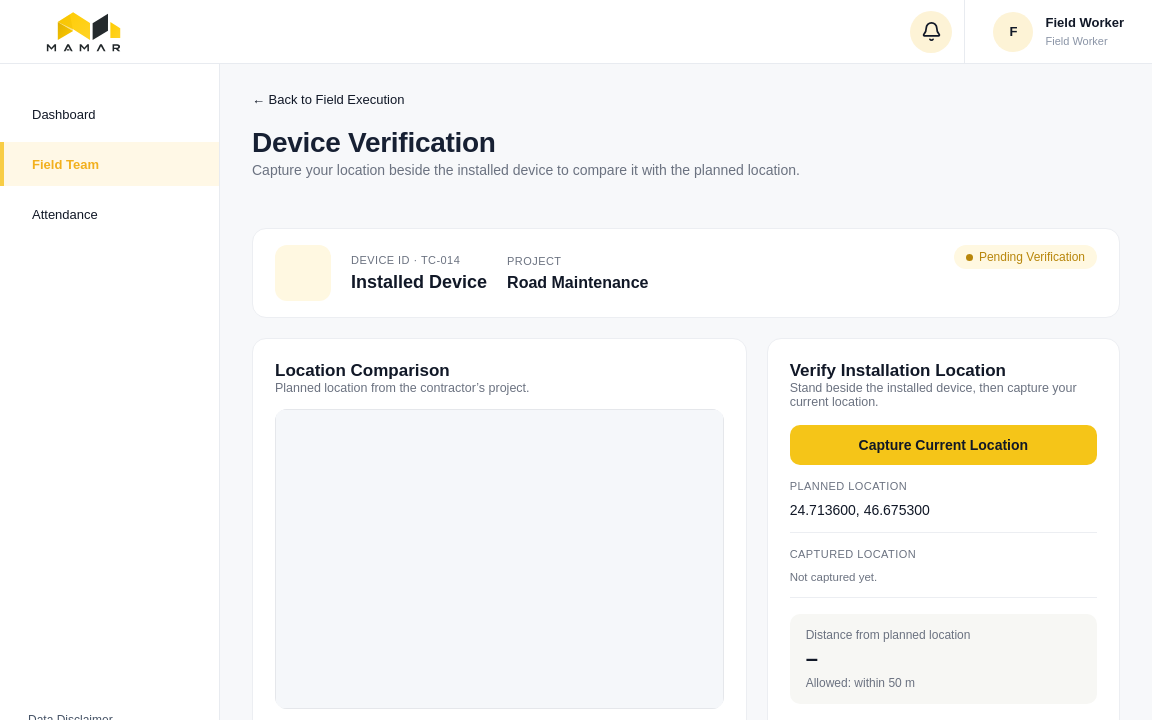
Test case: Field Worker DeviceVerification › shows save errors and allows retrying
The width and height of the screenshot is (1152, 720).
What coordinates should you click on to do the following:
click the button "Capture Current Location"
I would click on:
 (943, 445)
Its box is left=790, top=425, right=1097, bottom=465.
(page scrolled)
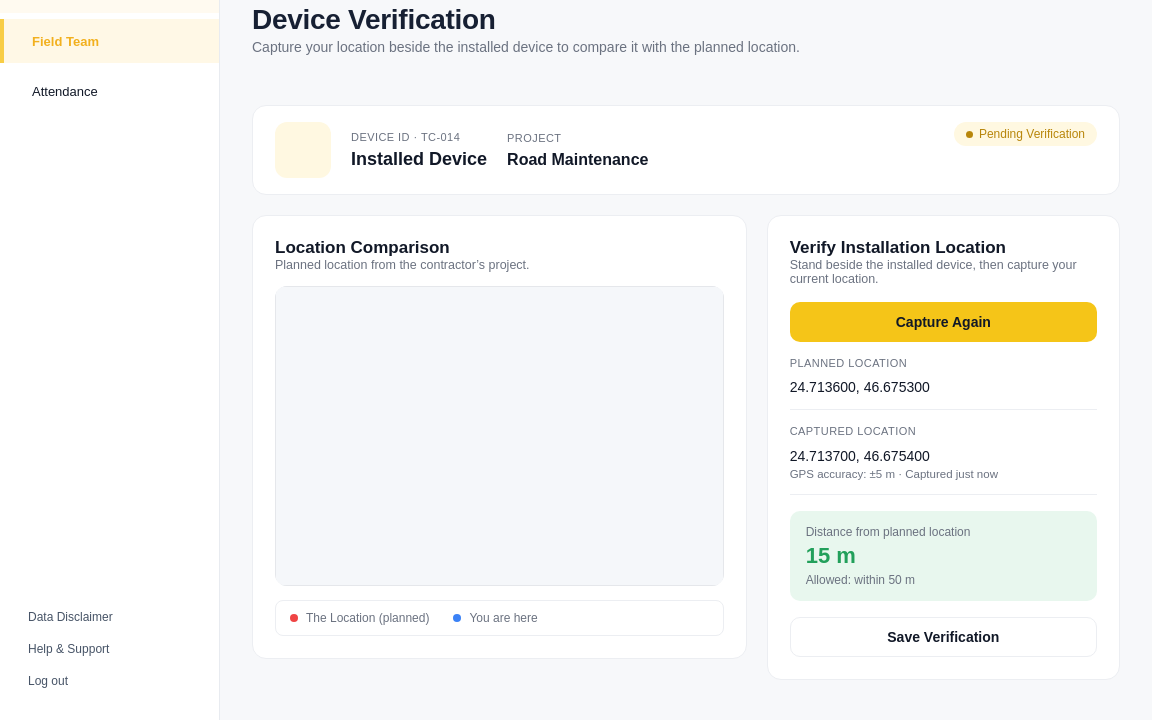
What coordinates should you click on to do the following:
click the button "Save Verification"
I would click on:
 (943, 637)
Its box is left=790, top=617, right=1097, bottom=657.
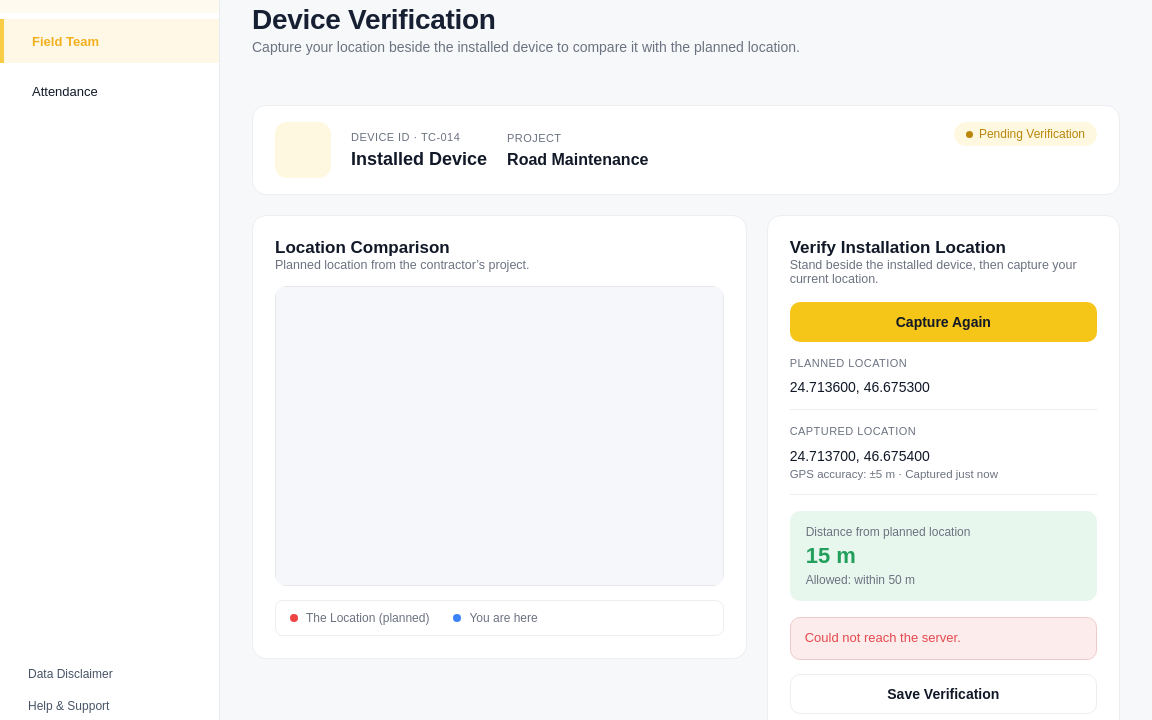
Check: the button "Save Verification" is enabled, box left=790, top=674, right=1097, bottom=714
Check: the message reads "Could not reach the server.", box left=805, top=630, right=961, bottom=645
